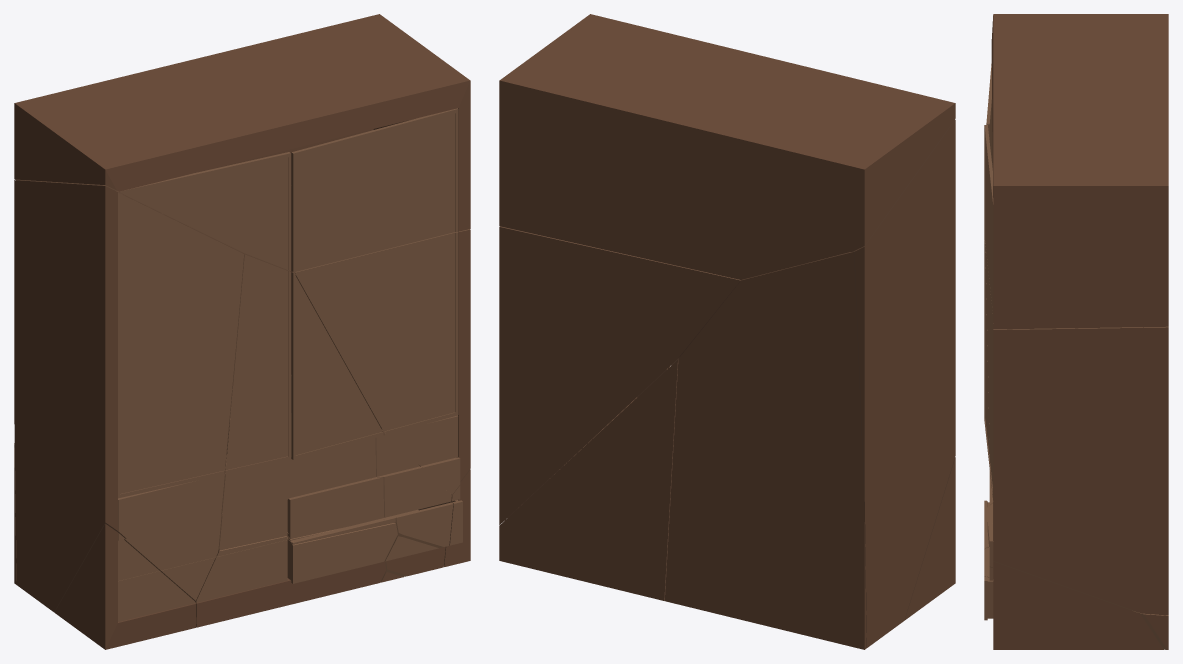
File: Armario_Roto.fbx
3 renders of one model, left to right at view 1: azimuth 30°, elevation 25°; view 2: azimuth 150°, elevation 25°; view 3: azimuth 270°, elevation 25°, orthographic. The views are drawn at different scales.
Parts seen in each view (by area): view 1: Armario_cell.011, Armario_cell.001, Armario_cell, Armario_cell.004, Armario_cell.007, Armario_cell.003, Armario_cell.005, Armario_cell.010, Armario_cell.008; view 2: Armario_cell.001, Armario_cell.002, Armario_cell.004, Armario_cell.011, Armario_cell.005, Armario_cell.003; view 3: Armario_cell.001, Armario_cell.004, Armario_cell.010, Armario_cell, Armario_cell.005.
Part boxes in pixels (bbox=[...]): Armario_cell.011: bbox=[14, 180, 244, 612]; Armario_cell.001: bbox=[14, 14, 470, 272]; Armario_cell: bbox=[219, 254, 395, 550]; Armario_cell.004: bbox=[165, 185, 470, 494]; Armario_cell.007: bbox=[195, 519, 397, 627]; Armario_cell.003: bbox=[54, 524, 196, 649]; Armario_cell.005: bbox=[229, 351, 453, 576]; Armario_cell.010: bbox=[432, 469, 470, 566]; Armario_cell.008: bbox=[381, 536, 438, 582]; Armario_cell.001: bbox=[499, 14, 955, 279]; Armario_cell.002: bbox=[665, 252, 866, 649]; Armario_cell.004: bbox=[499, 226, 741, 524]; Armario_cell.011: bbox=[851, 119, 955, 647]; Armario_cell.005: bbox=[499, 359, 678, 600]; Armario_cell.003: bbox=[904, 457, 955, 620]; Armario_cell.001: bbox=[984, 14, 1168, 329]; Armario_cell.004: bbox=[985, 242, 1168, 615]; Armario_cell.010: bbox=[984, 561, 1163, 649]; Armario_cell: bbox=[984, 240, 992, 549]; Armario_cell.005: bbox=[984, 461, 1168, 649].
Size of the model in its own units: 137 by 172 by 61.86.
